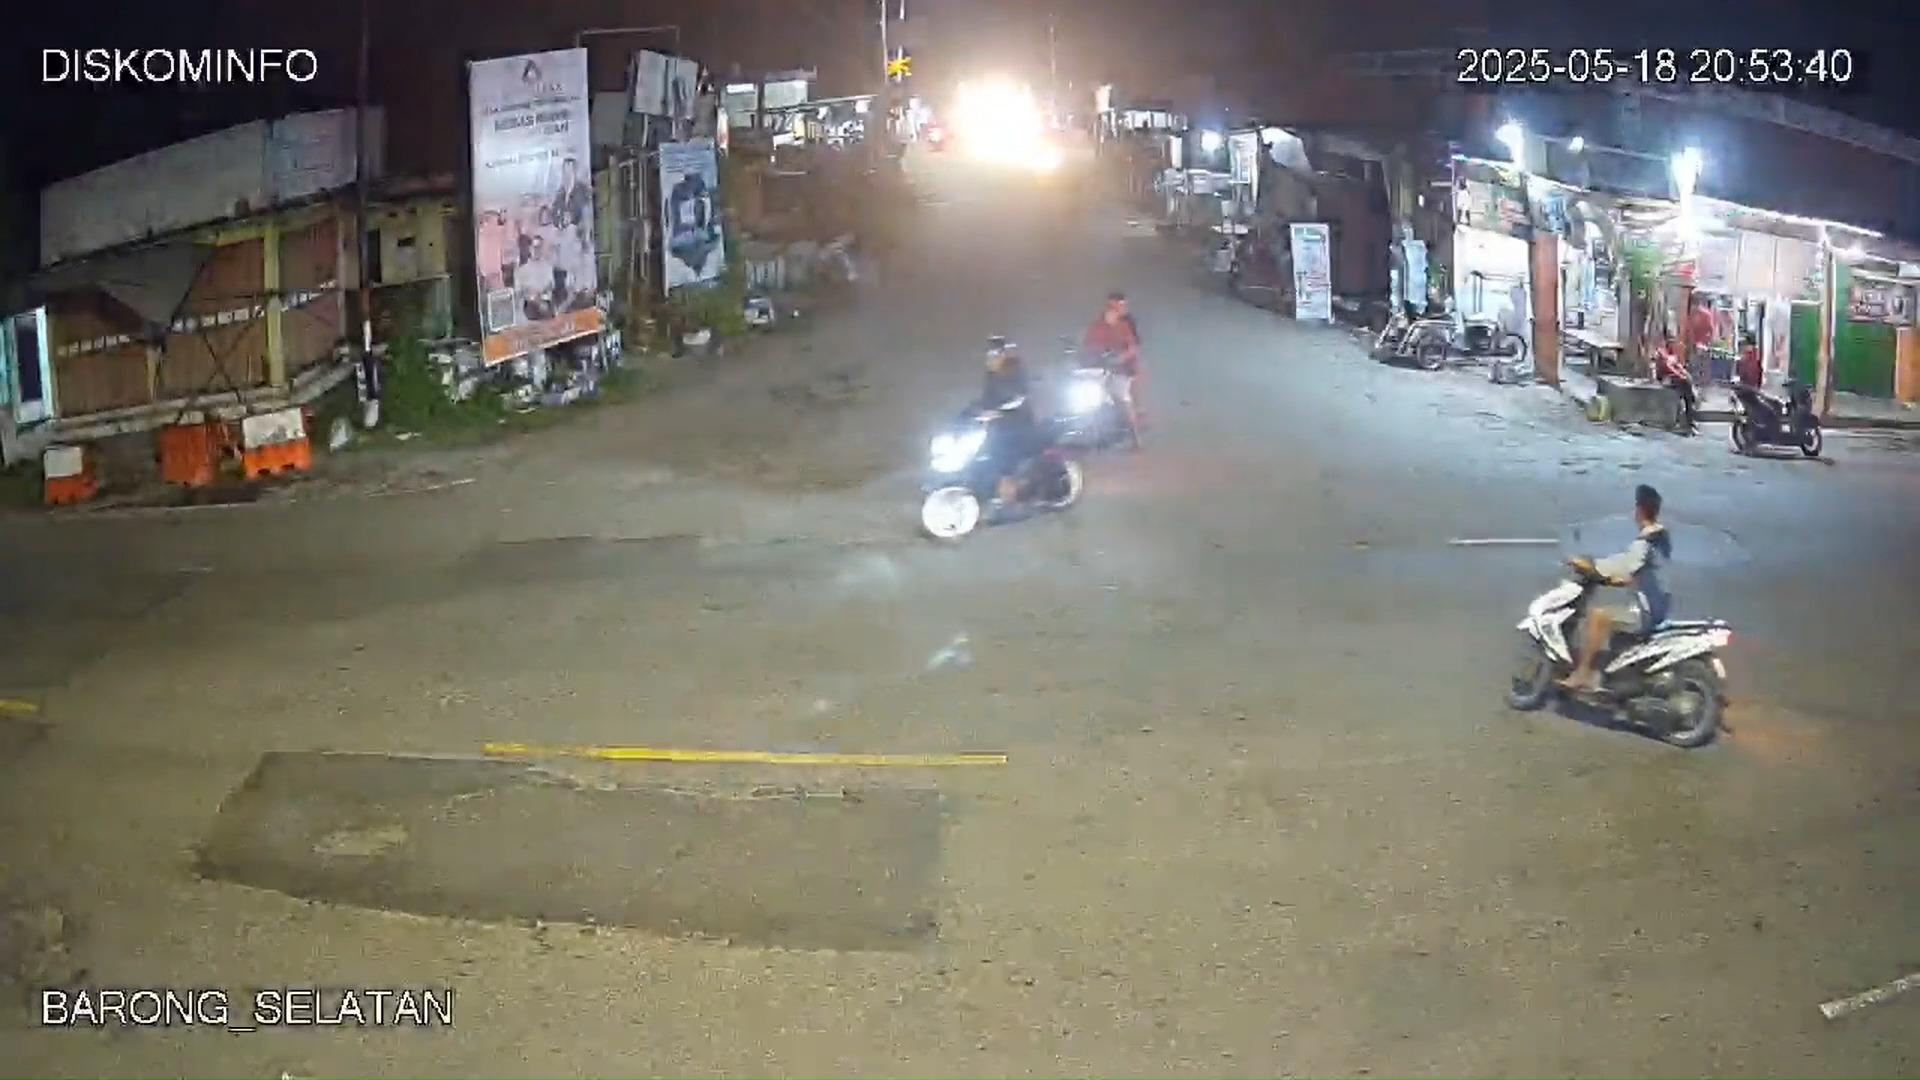Motor: (1473, 524, 1746, 757), (916, 332, 1088, 547), (1084, 286, 1153, 447)
